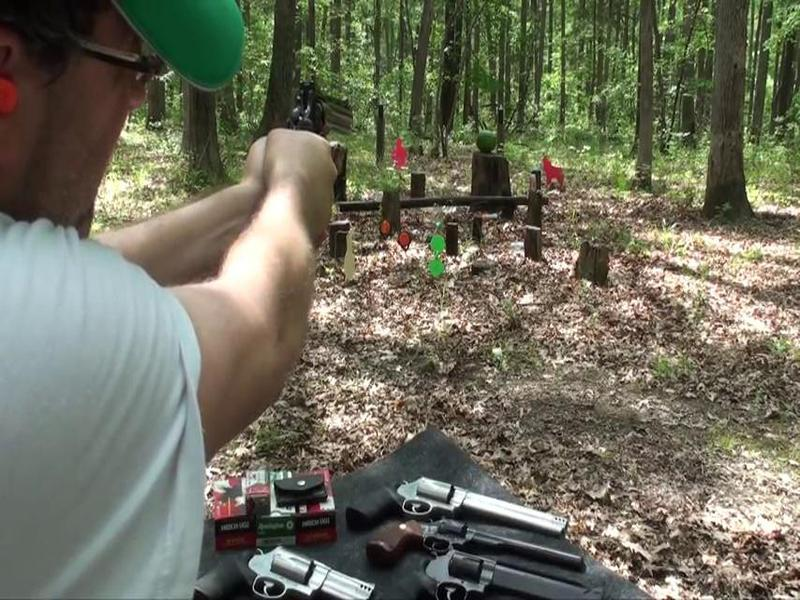Revolver: (250, 60, 363, 183)
